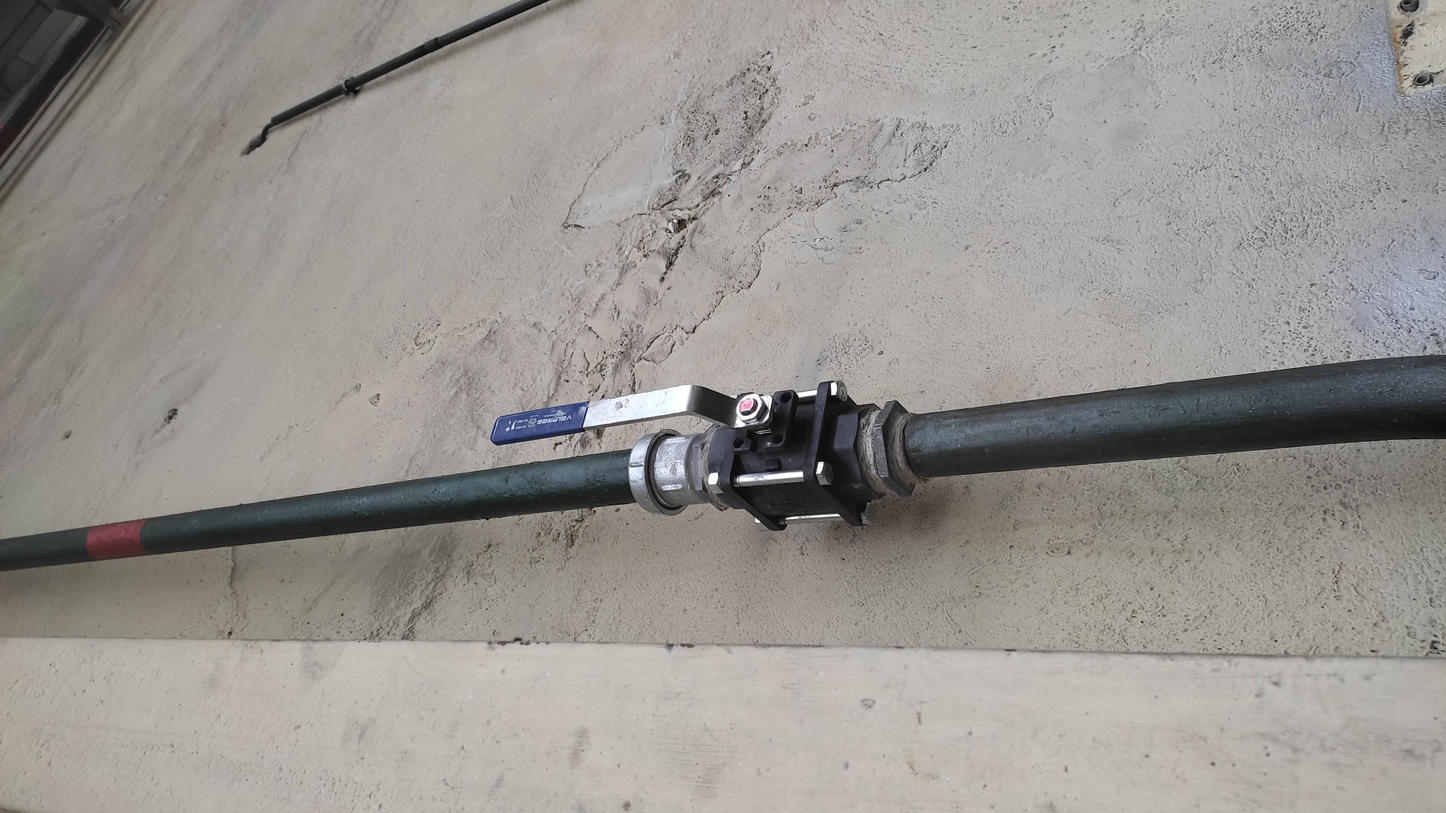opened valve: (489, 378, 886, 536)
